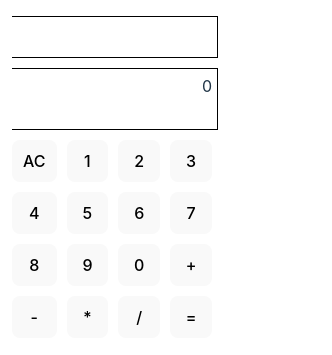
Scenario: Calculator component › handleCalculate for addition
Click the button with test id "button-3" at (191, 161), box [170, 140, 212, 182]
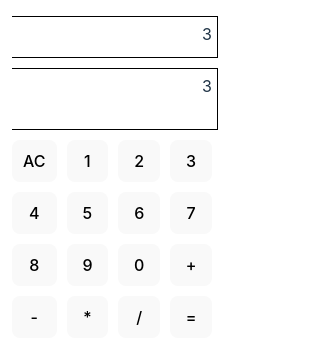
Click the button "+" at (191, 265), box [170, 244, 212, 286]
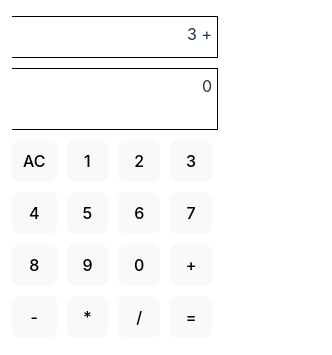
Click the button with test id "button-7" at (191, 213), box [170, 192, 212, 234]
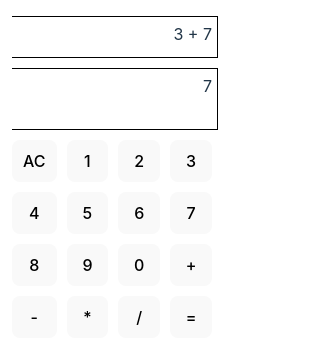
Click the button "=" at (191, 317), box [170, 296, 212, 338]
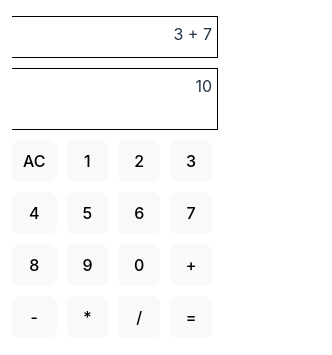
Expected: the text with test id "complete-operation" reads "3 + 7", [174, 24, 212, 44]
Expected: the text with test id "display" reads "10", [195, 76, 212, 96]
